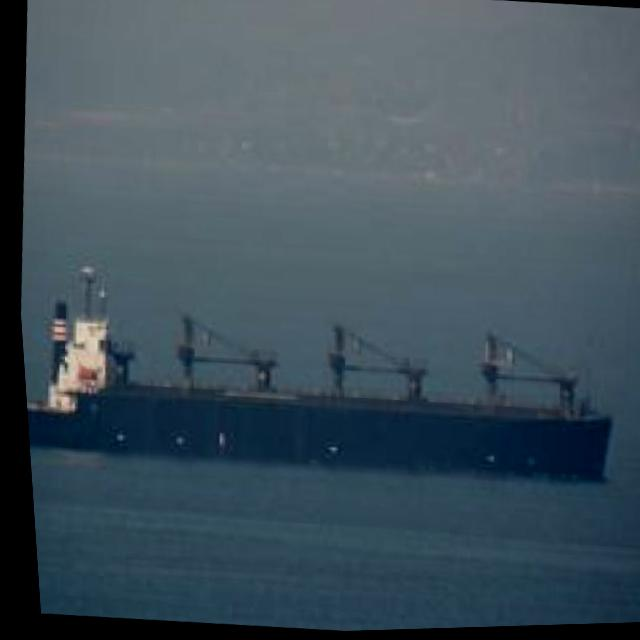ship2: (21, 254, 604, 486)
